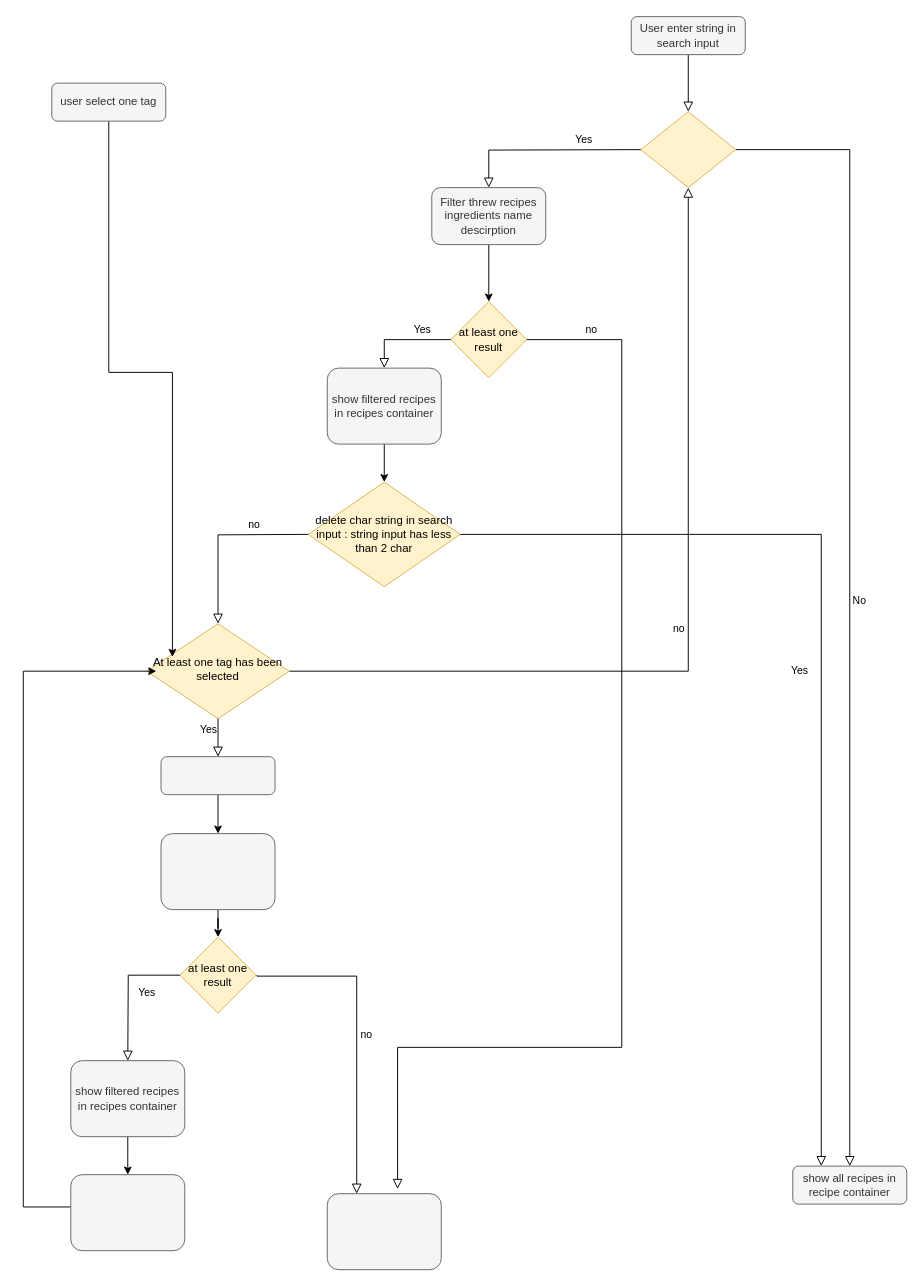
Image size: 923x1286. Some labels were removed from this diagram. Here are the shapes that lost their labels. From the top down, the centre of each, then its label:
At (x=688, y=149): "Input search has at least 3 char".
At (x=217, y=775): "Tag show in tag container".
At (x=217, y=871): "Filter recipes by ingredients appliances or ustensils".
At (x=127, y=1212): "delete one tag".
At (x=383, y=1231): "Show message in recipe container aucunes recettes + name search".
